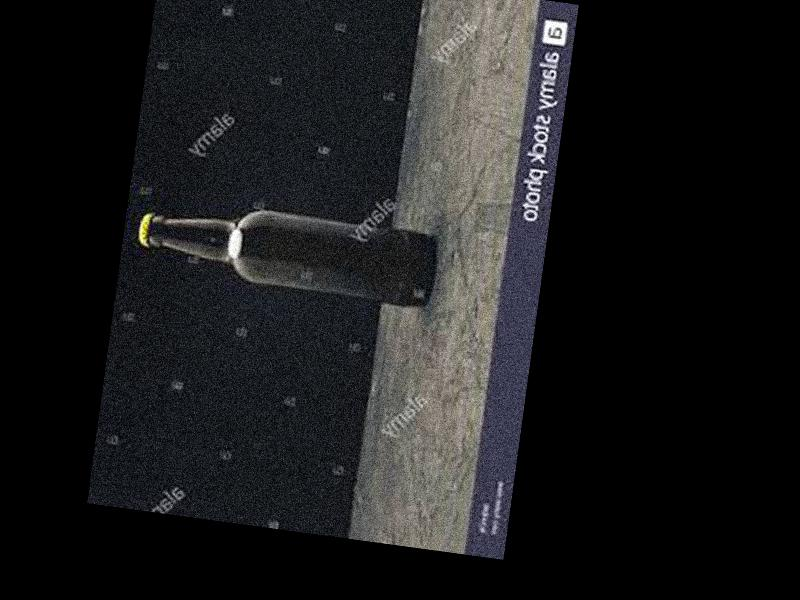Beer: (134, 200, 436, 308)
